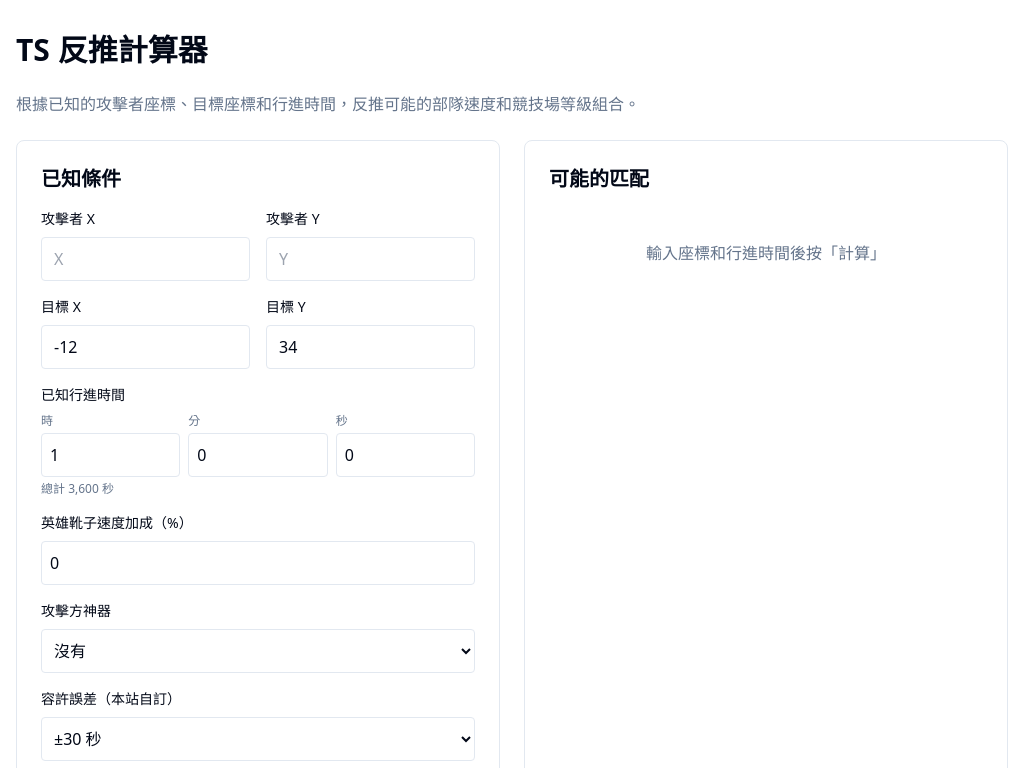
Scenario: 反推敵方兵種／競技場 › target defaults to the selected village; speed follows the top bar; artifact + tolerance are sent
Expected: the field with test id "target-x" holds "-12", left=41, top=325, right=250, bottom=369
Type "0" into the field with test id "attacker-x" at (146, 259), box left=41, top=237, right=250, bottom=281
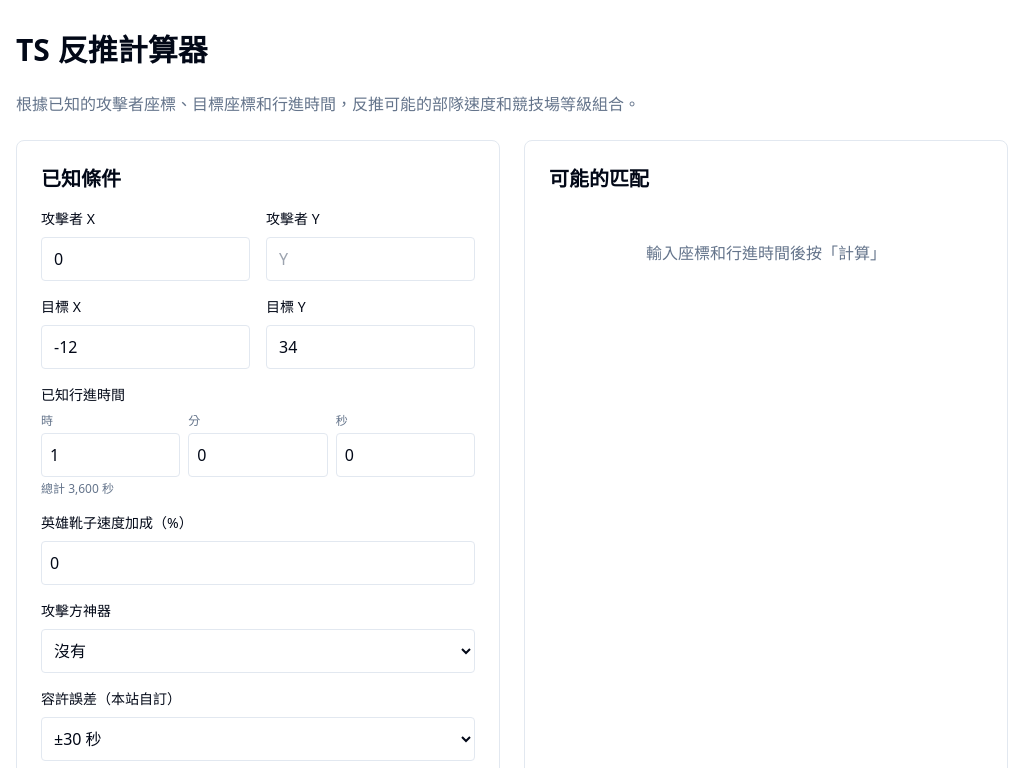
Type "0" into the field labelled "攻擊者 Y" at (370, 259), box left=266, top=237, right=475, bottom=281
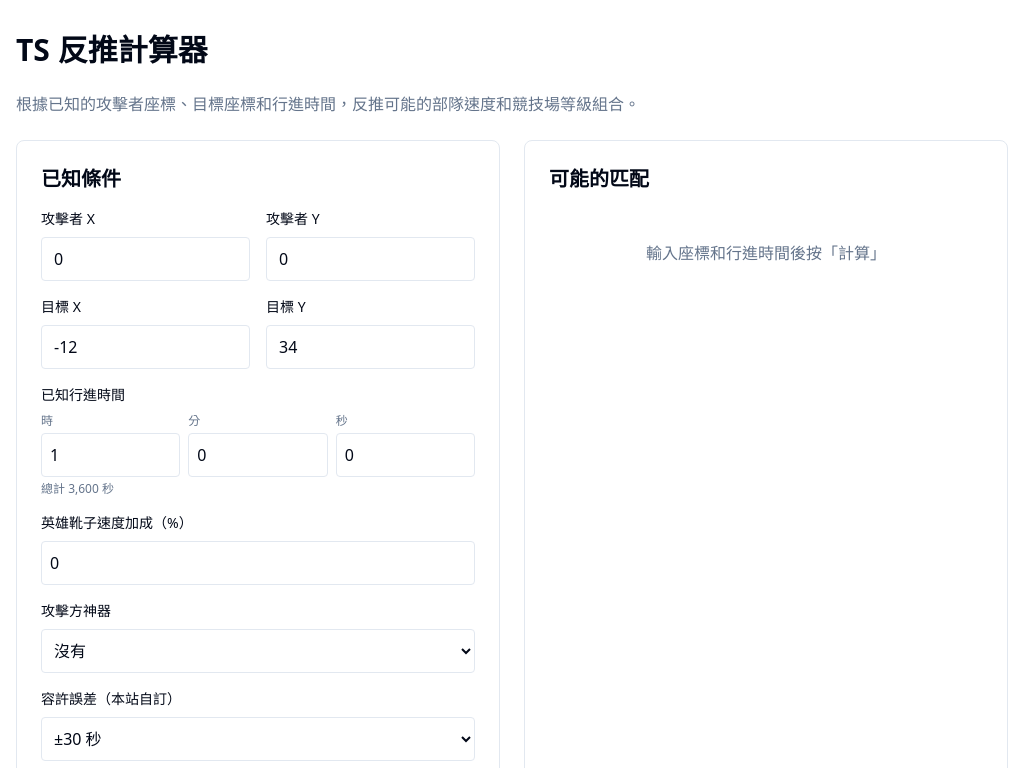
Select "大型神器（帳號）1.5×" in the dropdown with test id "reverse-artifact" at (258, 651), box left=41, top=629, right=475, bottom=673
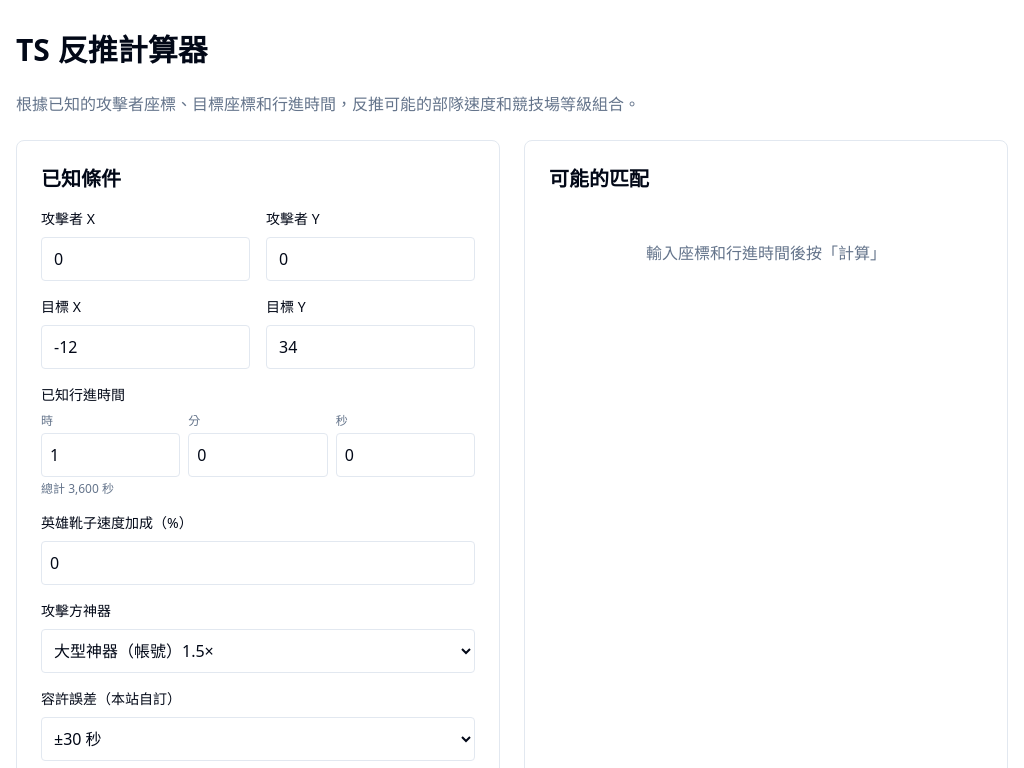
Select "±60 秒" in the dropdown with test id "reverse-tolerance" at (258, 739), box left=41, top=717, right=475, bottom=761
(page scrolled)
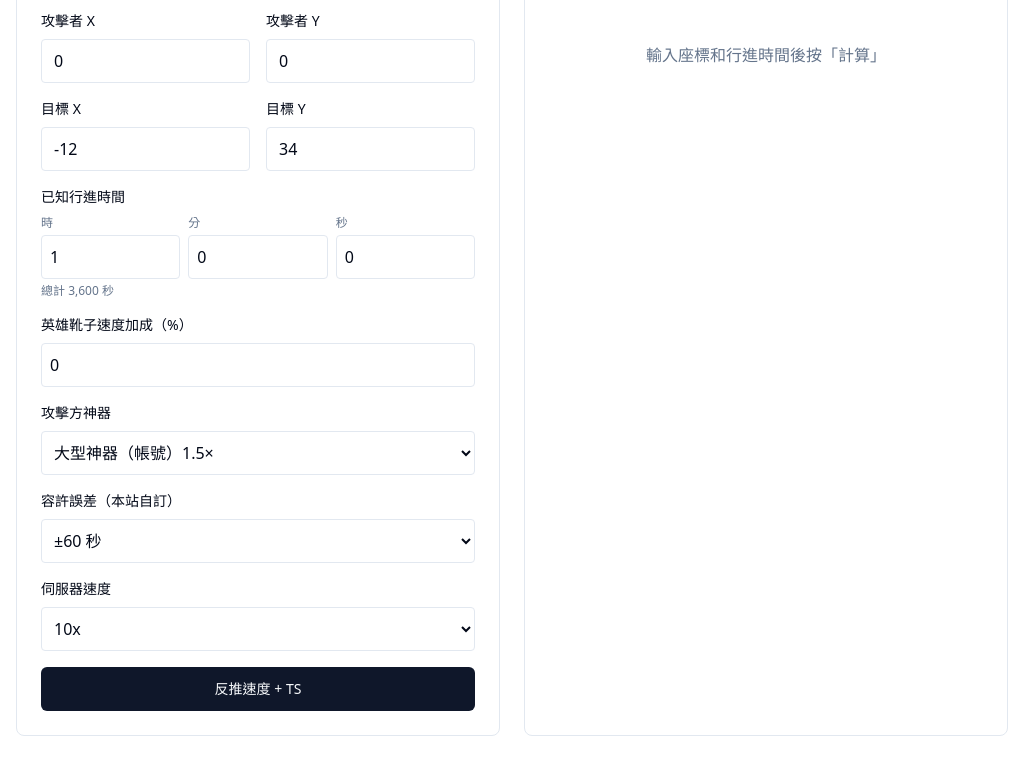
Click the button "反推速度 + TS" at (258, 689), box left=41, top=667, right=475, bottom=711
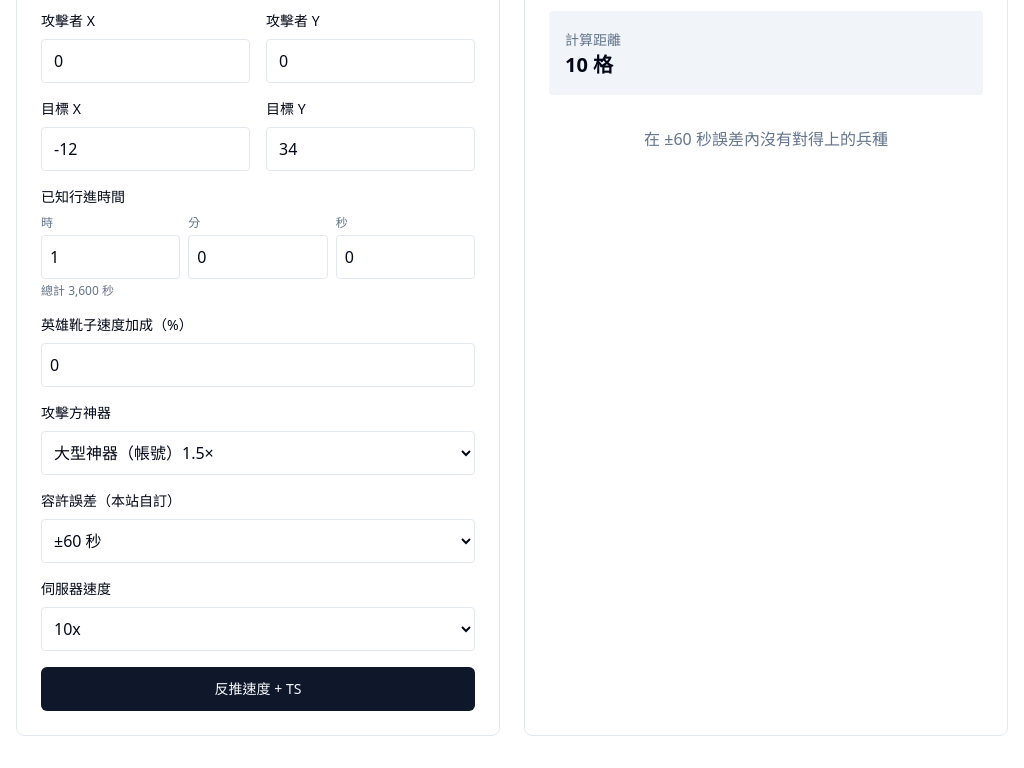
Now the text "在 ±60 秒誤差內沒有對得上的兵種" is shown, box left=644, top=128, right=888, bottom=150
